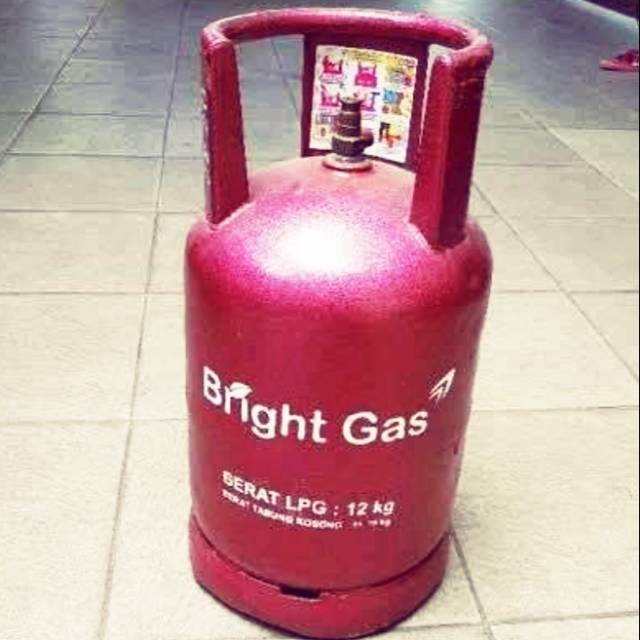bright_gas: (182, 7, 496, 640)
